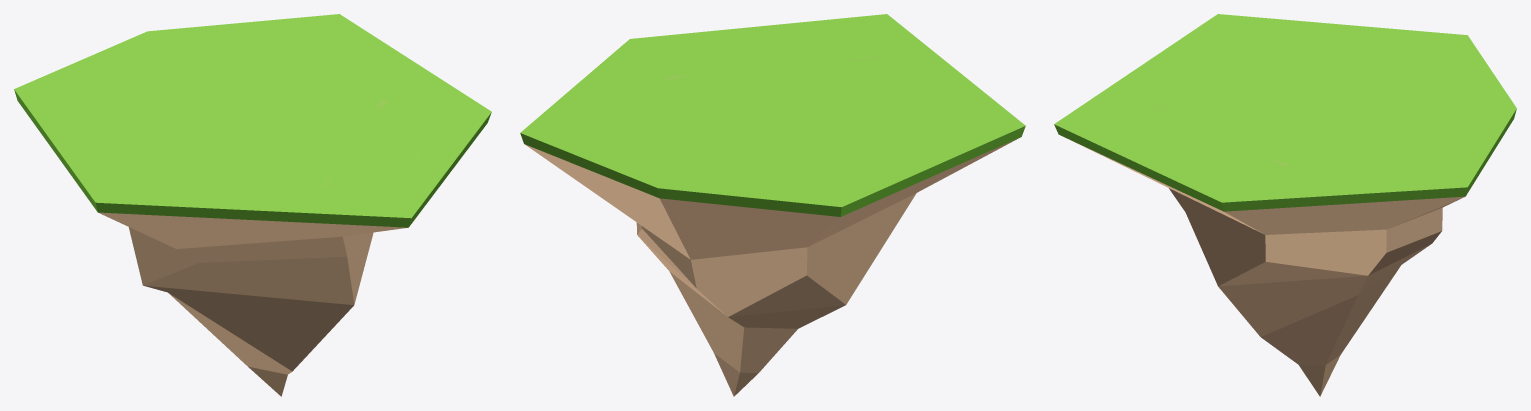
Rendered from floatingIsland.fbx.
3 views of the same model, side by side, from view 1: azimuth 30°, elevation 25°; view 2: azimuth 150°, elevation 25°; view 3: azimuth 270°, elevation 25° (orthographic). The views are drawn at different scales.
Parts seen in each view (by area): view 1: Cylinder; view 2: Cylinder; view 3: Cylinder.
Boxes of the visible parts, x1,y1,x2,y2 form: Cylinder: [14, 14, 491, 396]; Cylinder: [520, 14, 1025, 396]; Cylinder: [1054, 14, 1516, 396].
Bounding box in the file's own units: 781 × 554 × 842.
Materials: 1 (1 with a texture image).
